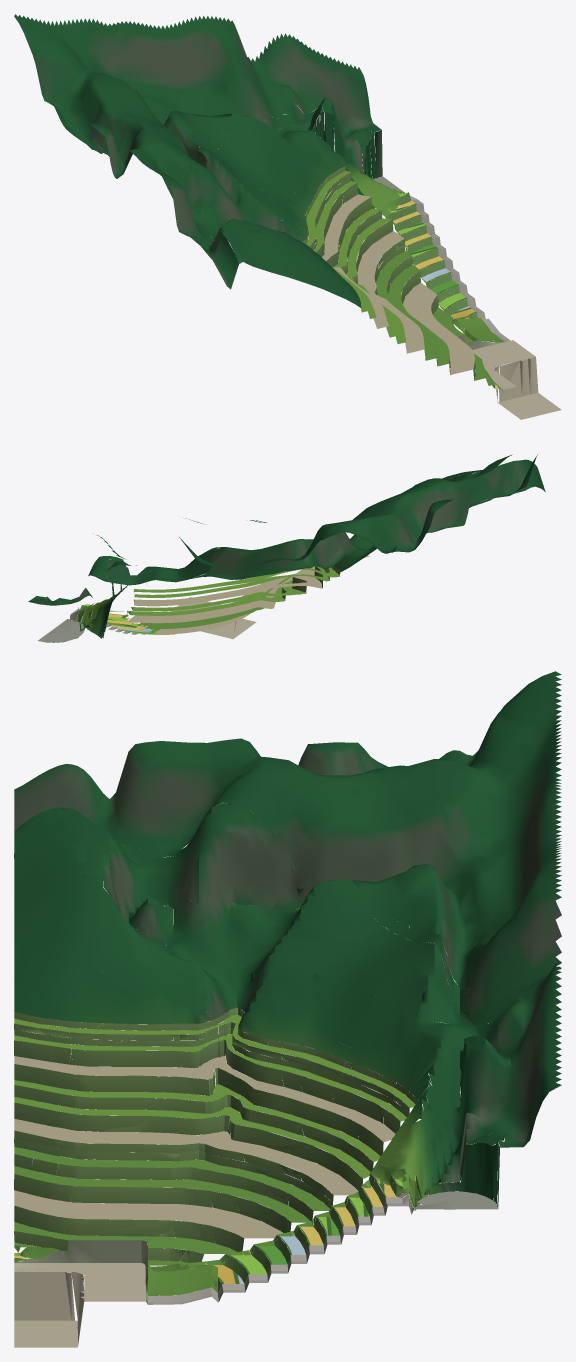
File: payo_land_x0_ym1_lod2.glb
The picture shows the model from 3 angles, top to bottom: view 1: azimuth 30°, elevation 25°; view 2: azimuth 150°, elevation 25°; view 3: azimuth 270°, elevation 25°; orthographic projection. The views are drawn at different scales.
Parts seen in each view (by area): view 1: payo_land_x0_ym1; view 2: payo_land_x0_ym1; view 3: payo_land_x0_ym1.
Boxes of the visible parts, x1,y1,x2,y2 form: payo_land_x0_ym1: (14, 14, 561, 419); payo_land_x0_ym1: (28, 454, 545, 642); payo_land_x0_ym1: (14, 671, 561, 1347).
Size of the model in its own units: 255 by 233 by 258.
